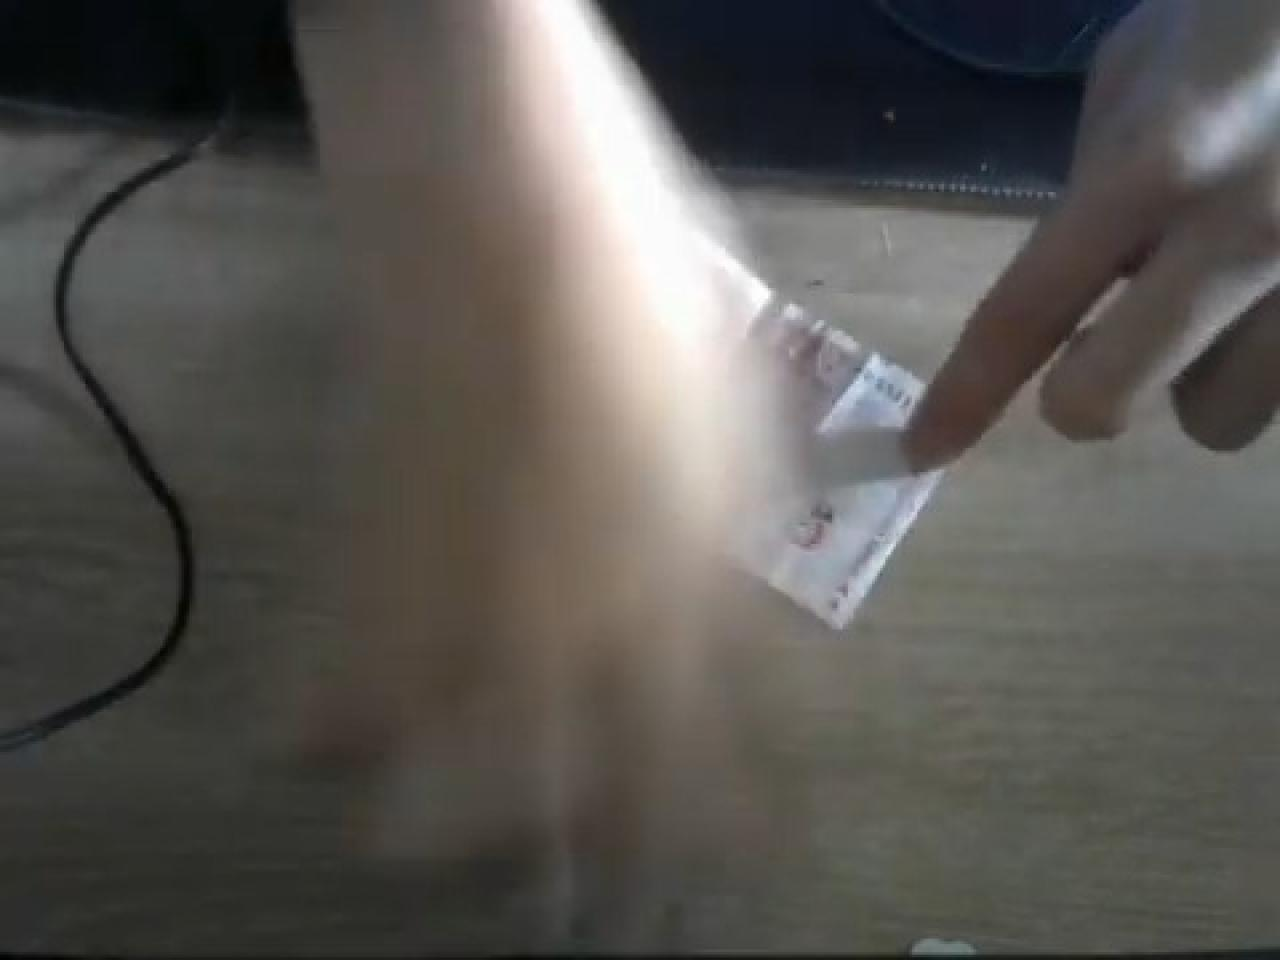5leva: (720, 296, 946, 632)
